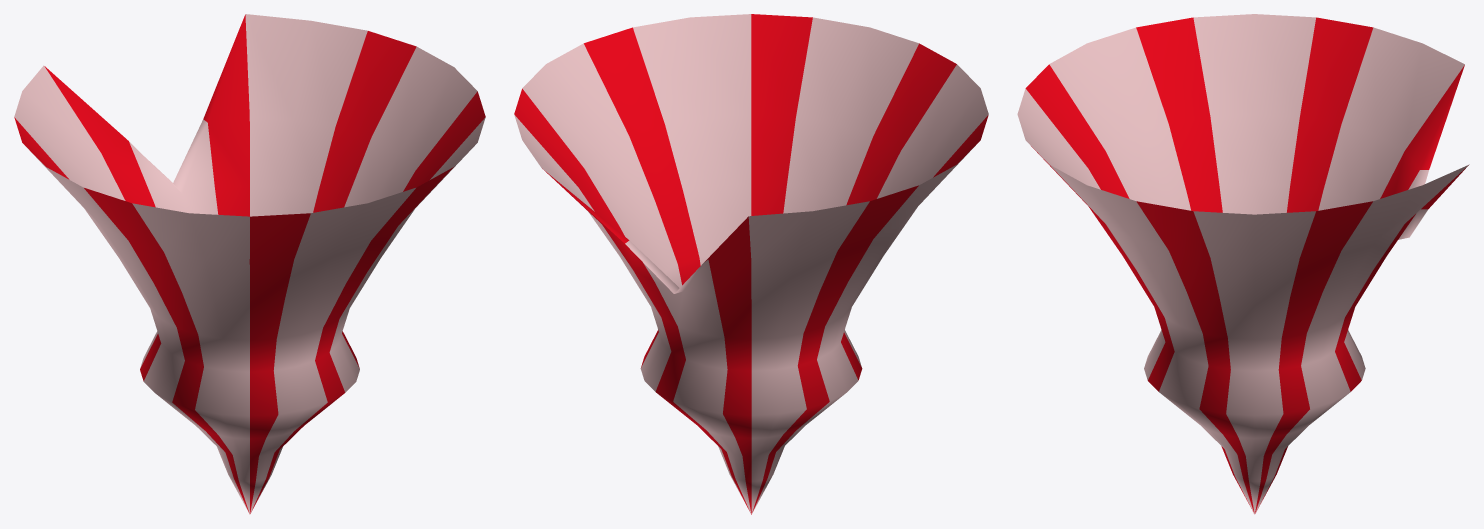
Rendered from milkTent.glb.
3 views of the same model, side by side, from view 1: azimuth 30°, elevation 25°; view 2: azimuth 150°, elevation 25°; view 3: azimuth 270°, elevation 25° (orthographic).
Visible parts, largest first — view 1: Circle; view 2: Circle; view 3: Circle.
Part boxes in pixels (x1,y1,x2,y2): Circle: [14, 14, 485, 514]; Circle: [514, 14, 988, 514]; Circle: [1017, 14, 1469, 514].
Size of the model in its own units: 4.28 by 3.99 by 4.08.
